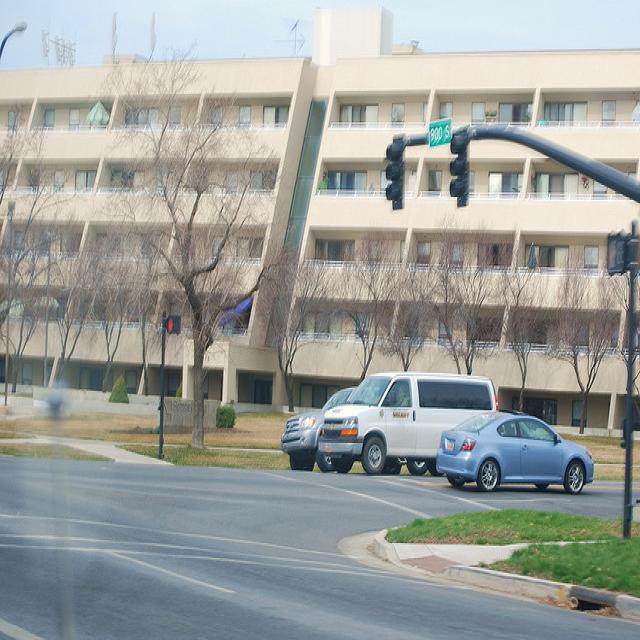Vehicle: (320, 368, 496, 485), (320, 372, 500, 477), (436, 408, 594, 495), (281, 386, 358, 472)
